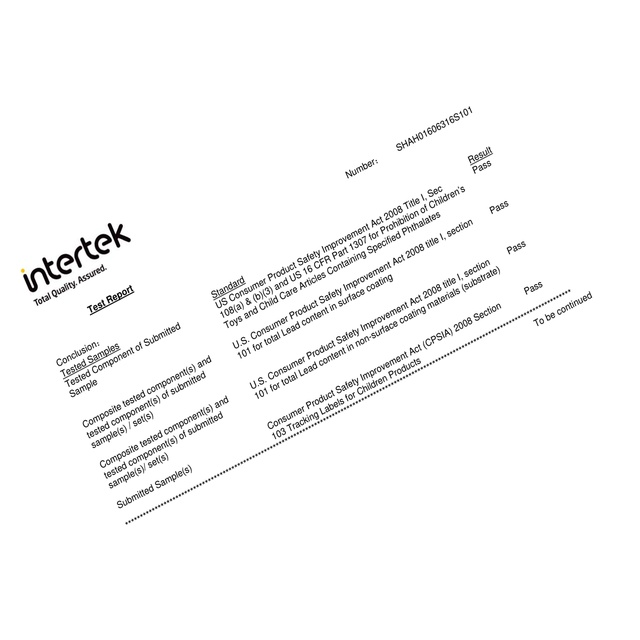intertek: (23, 221, 131, 294)
